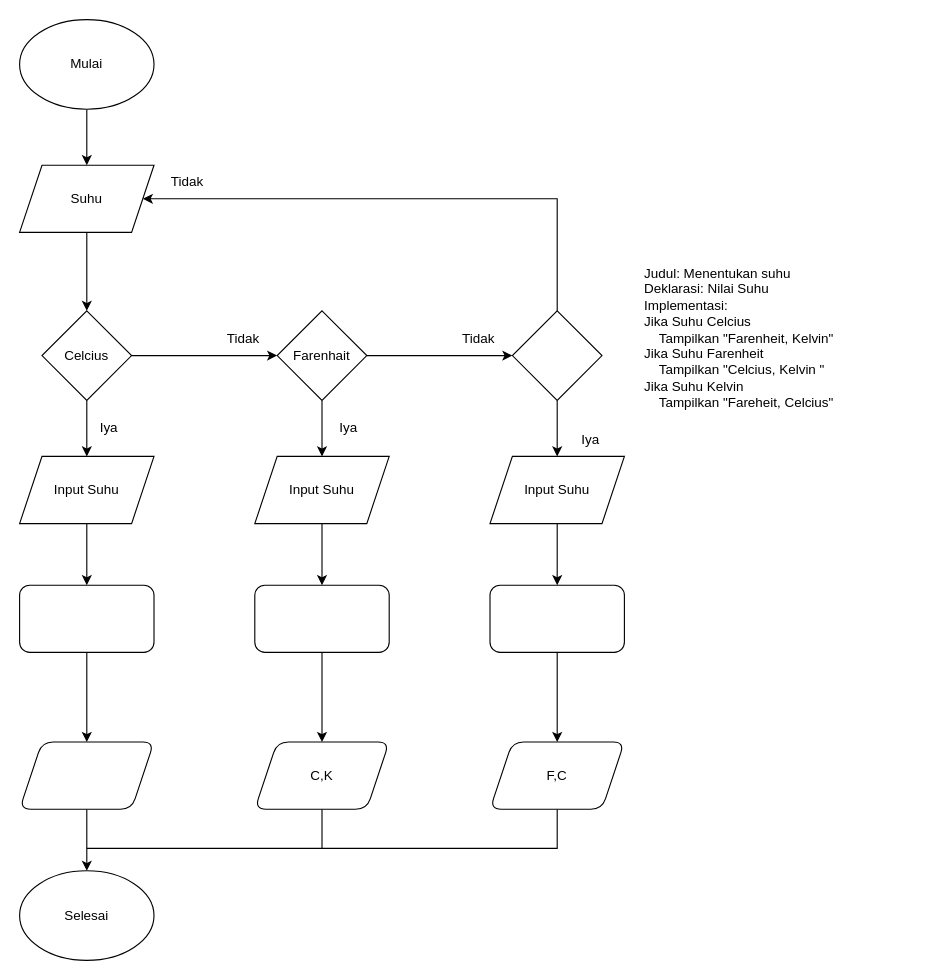
Image size: 946x980. Some labels were removed from this diagram. The shapes that lost their labels are listed below. From the top down, each one's box as (x1, y1, x2, y2) in pixels, then its label:
(511, 310, 602, 400): Kelvin
(18, 584, 154, 652): F= 9/5 * C + 32 K= C +273
(254, 584, 389, 652): C= 5/9 * (F - 32) K= (F + 459)/ 1.8
(489, 584, 624, 652): C= K - 273 F= (K * 1.8) - 459
(18, 741, 154, 809): F,K
